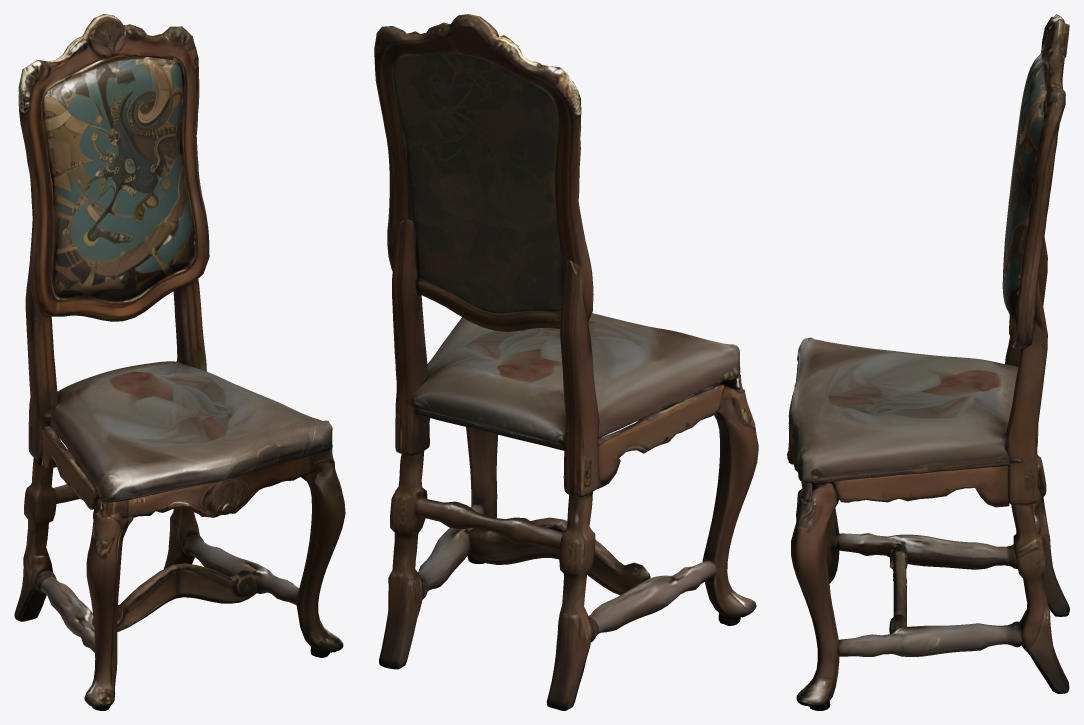
The picture shows the model from 3 angles, left to right: view 1: azimuth 30°, elevation 25°; view 2: azimuth 150°, elevation 25°; view 3: azimuth 270°, elevation 25°; orthographic projection. The views are drawn at different scales.
Visible parts, largest first — view 1: root.1, root.0, root.2, root.3, root.4, root.5, root.8, root.9, root.10, root.11, root.7, root.12 (+2 smaller); view 2: root.1, root.0, root.2, root.3, root.10, root.7, root.9, root.6, root.14, root.8, root.12, root.15 (+2 smaller); view 3: root.0, root.4, root.2, root.1, root.7, root.6, root.11, root.13, root.12, root.9, root.8, root.3 (+2 smaller).
Part boxes in pixels (x1,y1,x2,y2): root.1: (41,55,193,301); root.0: (49,361,332,501); root.2: (18,14,209,321); root.3: (84,498,133,710); root.4: (296,462,345,657); root.5: (99,449,334,518); root.8: (117,563,257,631); root.9: (14,458,56,621); root.10: (25,264,57,461); root.11: (182,534,299,604); root.7: (173,279,206,371); root.12: (35,570,94,652); root.1: (393,53,563,313); root.0: (405,313,740,450); root.2: (374,14,593,331); root.3: (702,383,758,625); root.10: (560,260,599,497); root.7: (392,219,429,455); root.9: (546,492,595,710); root.6: (379,451,427,669); root.14: (597,384,724,488); root.8: (468,517,650,595); root.12: (588,560,716,642); root.15: (416,498,562,550); root.0: (788,337,1038,482); root.4: (791,481,839,710); root.2: (1009,14,1069,349); root.1: (1002,52,1047,324); root.7: (1004,278,1047,504); root.6: (1011,503,1069,693); root.11: (837,621,1021,656); root.13: (833,466,1009,507); root.12: (837,533,1017,569); root.9: (1035,454,1069,616); root.8: (889,543,907,633); root.3: (827,508,839,586).
Bounding box in the file's own units: 0.5075 × 1.12 × 0.4527.
16 materials, 16 textured.
